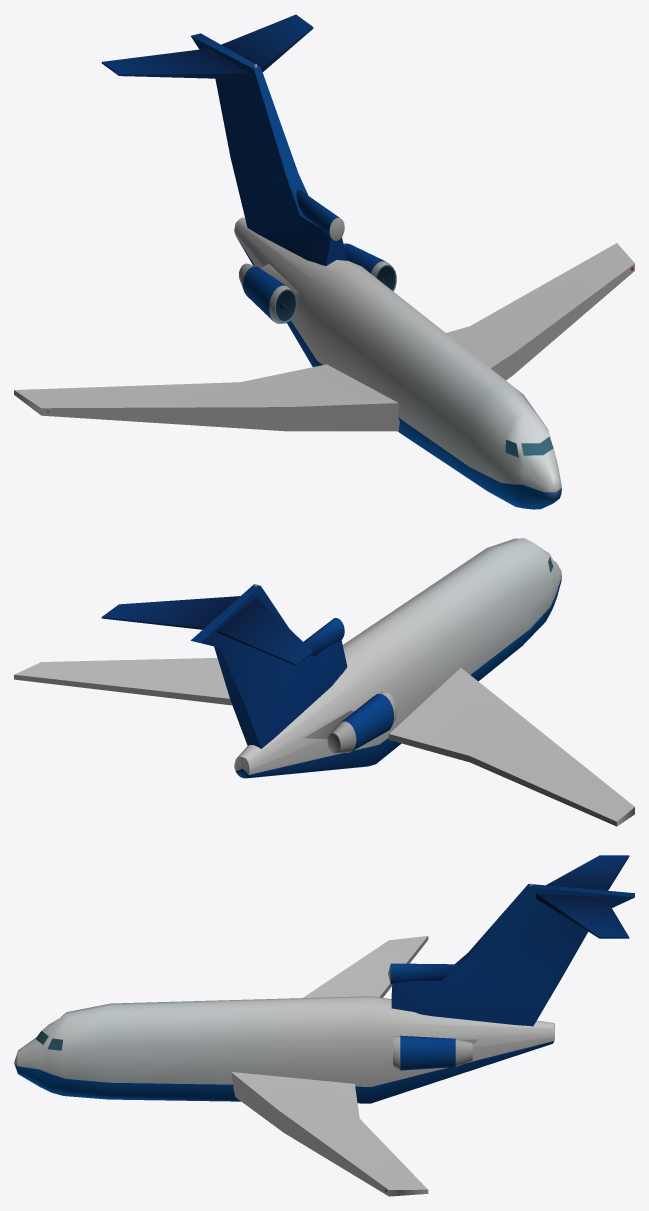
The picture shows the model from 3 angles, top to bottom: view 1: azimuth 30°, elevation 25°; view 2: azimuth 150°, elevation 25°; view 3: azimuth 270°, elevation 25°; orthographic projection. The views are drawn at different scales.
Parts seen in each view (by area): view 1: base.837; view 2: base.837; view 3: base.837.
Boxes of the visible parts, <box> form: base.837: <box>14,14,634,509</box>; base.837: <box>14,538,634,826</box>; base.837: <box>14,855,634,1196</box>.
Size of the model in its own units: 3.41 by 1.34 by 3.53.
